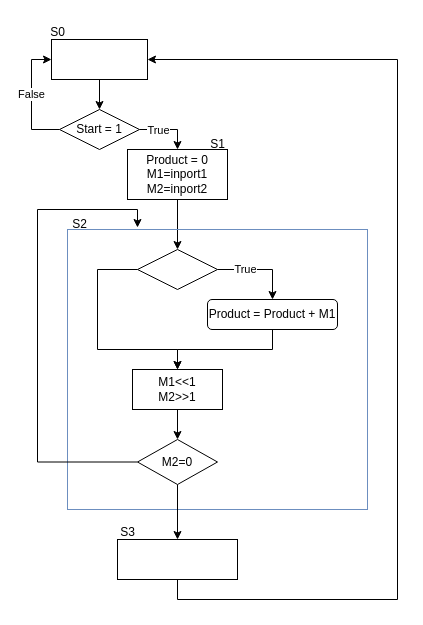
The diagram is 423 pixels wide and 625 high, and some of its shapes have lost their labels. The box of each missing label's shape, as (x1, y1, x2, y2) in pixels:
M2.0 = 1: (136, 248, 218, 290)
Output = Product: (116, 538, 238, 580)
Output = Z: (50, 38, 148, 80)
